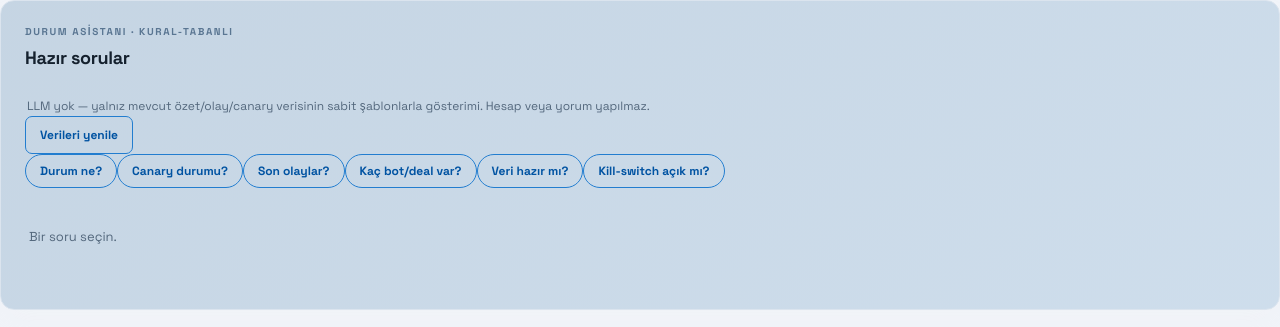
Test: AssistantPanel › durum-ne sorusu sunucu verisini aynen birleştirir
The width and height of the screenshot is (1280, 327).
Step 1. Click the button "Durum ne?" → (71, 171), box left=25, top=154, right=117, bottom=188
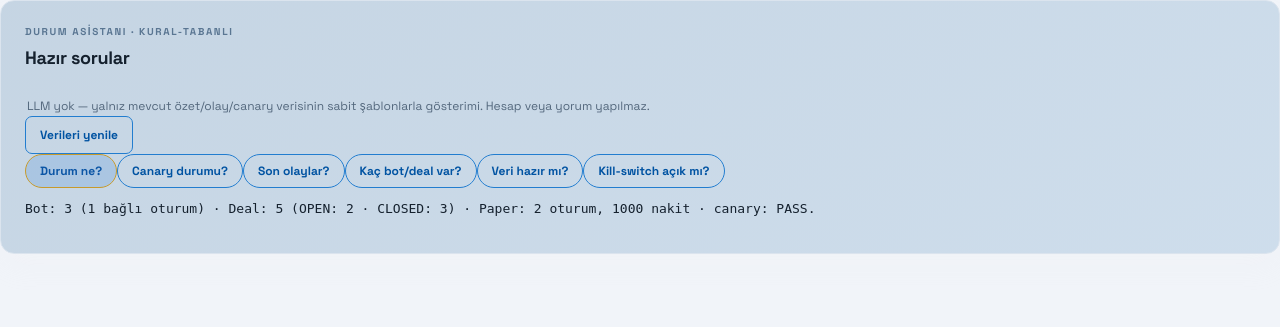
expect the text "canary: PASS" is shown: met, box left=25, top=201, right=816, bottom=216
